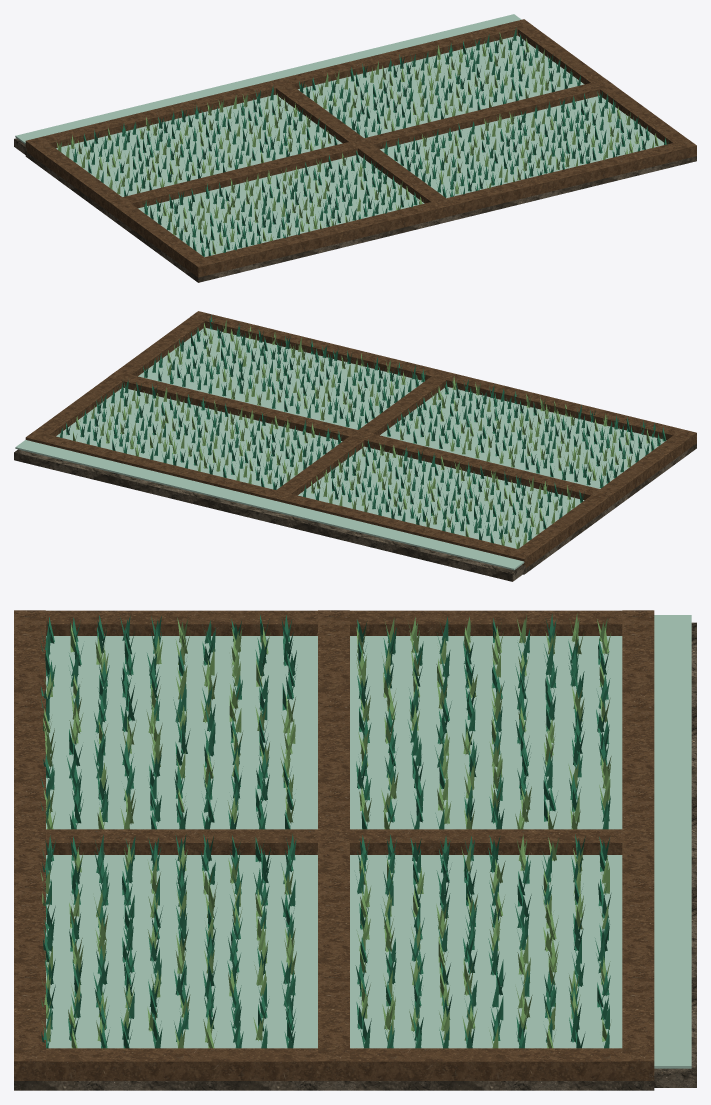
Rendered from sawah.glb.
3 views of the same model, one above another, from view 1: azimuth 30°, elevation 25°; view 2: azimuth 150°, elevation 25°; view 3: azimuth 270°, elevation 25° (orthographic). The views are drawn at different scales.
Visible parts, largest first — view 1: Padi_Hijau, Padi_Muda, Air_Petak.003, Air_Petak, Air_Petak.001, Air_Petak.002, Pematang_Selatan, Pematang_Tengah, Pematang_Utara, Saluran_Air, Lumpur, Pematang_Barat (+2 smaller); view 2: Padi_Hijau, Padi_Muda, Air_Petak, Air_Petak.002, Air_Petak.003, Air_Petak.001, Pematang_Tengah, Pematang_Selatan, Saluran_Bed, Saluran_Air, Pematang_Utara, Pematang_Barat (+3 smaller); view 3: Padi_Hijau, Air_Petak, Air_Petak.003, Air_Petak.001, Air_Petak.002, Padi_Muda, Pematang_Timur, Saluran_Air, Pematang_Utara, Pematang_Tengah, Pematang_Selatan, Pematang_Barat (+3 smaller).
Part boxes in pixels (x1=…): Padi_Hijau: x1=72, y1=27, x2=668, y2=256; Padi_Muda: x1=56, y1=32, x2=658, y2=254; Air_Petak.003: x1=298, y1=35, x2=584, y2=137; Air_Petak: x1=138, y1=155, x2=424, y2=257; Air_Petak.001: x1=56, y1=94, x2=342, y2=196; Air_Petak.002: x1=380, y1=96, x2=663, y2=198; Pematang_Selatan: x1=189, y1=139, x2=696, y2=277; Pematang_Tengah: x1=107, y1=79, x2=614, y2=217; Pematang_Utara: x1=25, y1=19, x2=532, y2=156; Saluran_Air: x1=15, y1=14, x2=521, y2=144; Lumpur: x1=25, y1=151, x2=696, y2=282; Pematang_Barat: x1=34, y1=143, x2=203, y2=270; Padi_Hijau: x1=60, y1=315, x2=665, y2=543; Padi_Muda: x1=73, y1=320, x2=650, y2=548; Air_Petak: x1=380, y1=387, x2=666, y2=488; Air_Petak.002: x1=138, y1=328, x2=422, y2=429; Air_Petak.003: x1=56, y1=388, x2=342, y2=489; Air_Petak.001: x1=298, y1=446, x2=584, y2=548; Pematang_Tengah: x1=108, y1=371, x2=614, y2=507; Pematang_Selatan: x1=190, y1=311, x2=696, y2=448; Saluran_Bed: x1=14, y1=449, x2=525, y2=581; Saluran_Air: x1=15, y1=440, x2=524, y2=570; Pematang_Utara: x1=25, y1=431, x2=532, y2=568; Pematang_Barat: x1=518, y1=435, x2=688, y2=562; Padi_Hijau: x1=40, y1=614, x2=611, y2=1048; Air_Petak: x1=46, y1=636, x2=317, y2=829; Air_Petak.003: x1=350, y1=855, x2=622, y2=1048; Air_Petak.001: x1=350, y1=636, x2=622, y2=829; Air_Petak.002: x1=46, y1=855, x2=317, y2=1048; Padi_Muda: x1=40, y1=613, x2=611, y2=1048; Pematang_Timur: x1=46, y1=1048, x2=622, y2=1080; Saluran_Air: x1=654, y1=615, x2=691, y2=1068; Pematang_Utara: x1=622, y1=610, x2=654, y2=1080; Pematang_Tengah: x1=318, y1=610, x2=349, y2=1080; Pematang_Selatan: x1=14, y1=610, x2=45, y2=1080; Pematang_Barat: x1=46, y1=610, x2=622, y2=635.
Bounding box in the file's own units: 20 × 0.89 × 12.8.
Materials: 5 (2 with a texture image).
